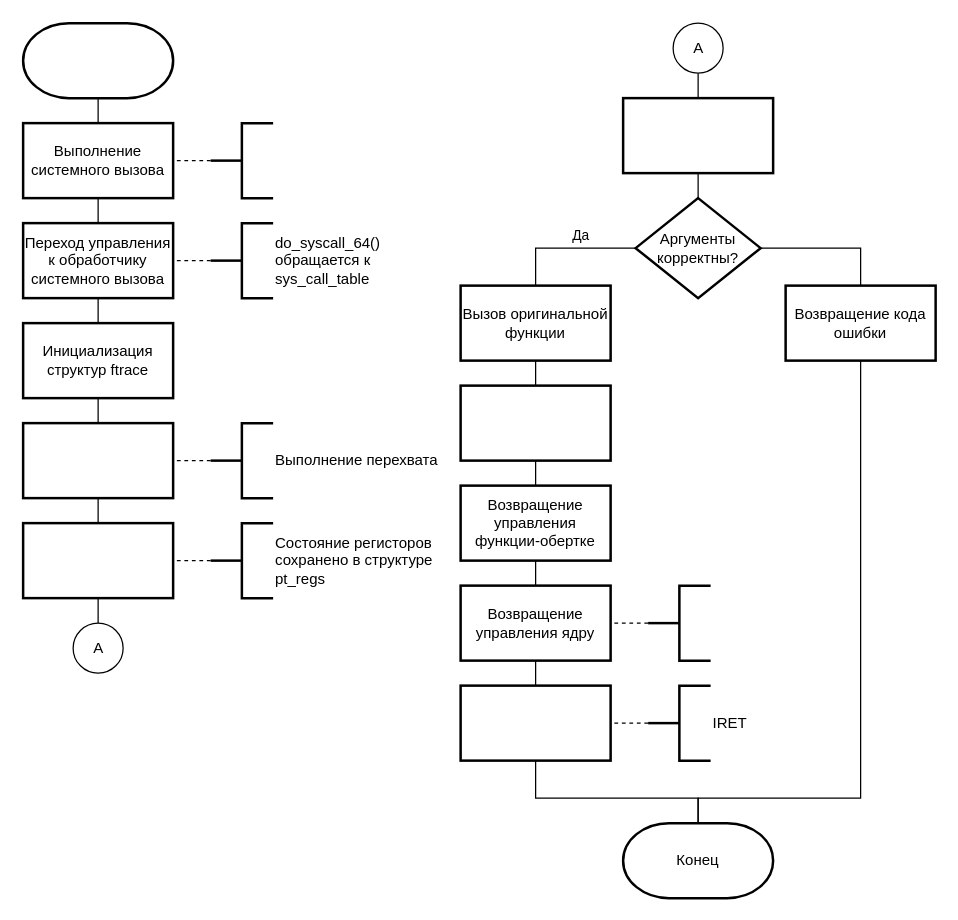
The diagram is 958 pixels wide and 920 high, and some of its shapes have lost their labels. Each missing label, with the box of its shape:
do_syscall_64(): (646, 584, 711, 661)
entry_SYSCALL_64(): (209, 121, 274, 199)
Восстановление регистров: (21, 521, 174, 599)
Вызов коллбека: (21, 421, 174, 499)
Выполнение функции-обертки: (621, 96, 774, 174)
Завершение работы: (459, 684, 611, 761)
Начало: (21, 21, 174, 99)
Получение управления коллбеком: (459, 384, 611, 461)
